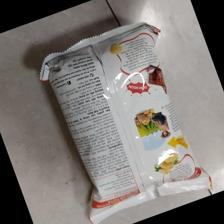Lays: (37, 21, 217, 224)
